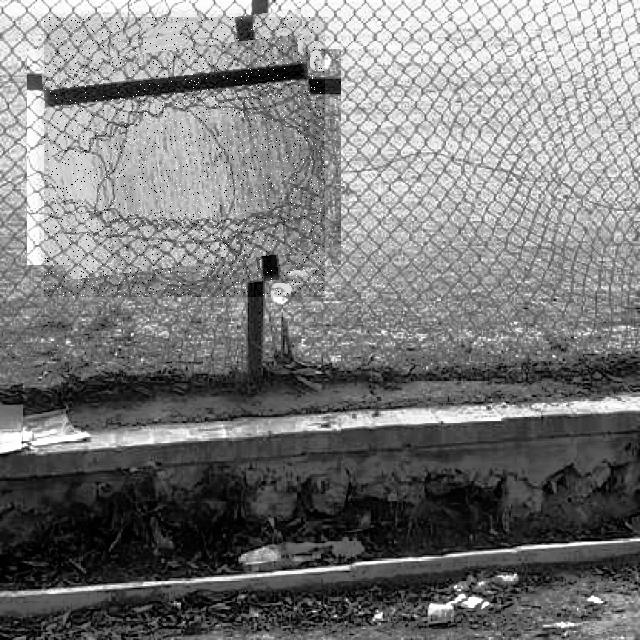anomaly-fence: (44, 17, 325, 297)
